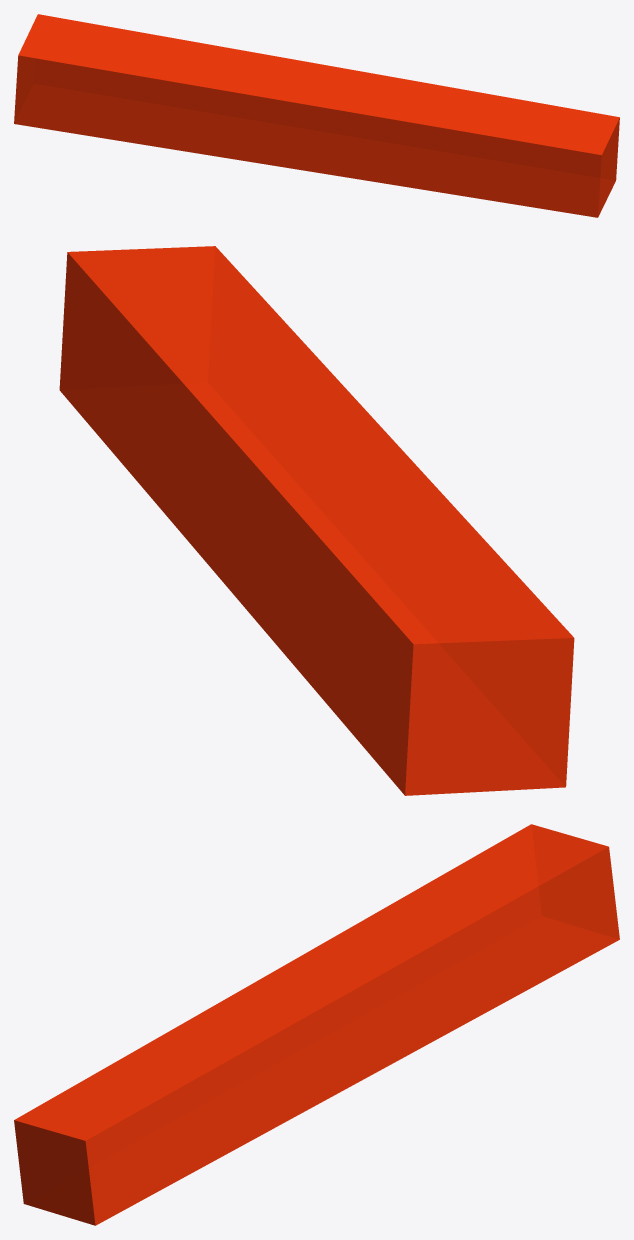
Rendered from Event_421115418_EBrechit_11.fbx.
3 views of the same model, one above another, from view 1: azimuth 30°, elevation 25°; view 2: azimuth 150°, elevation 25°; view 3: azimuth 270°, elevation 25° (orthographic). The views are drawn at different scales.
Parts seen in each view (by area): view 1: Model; view 2: Model; view 3: Model.
Boxes of the visible parts, box(x1,y1,x2,y2) form: Model: box(14, 14, 619, 217); Model: box(59, 246, 574, 795); Model: box(14, 824, 619, 1225).
Size of the model in its own units: 0.3762 by 0.0986 by 0.3607.
